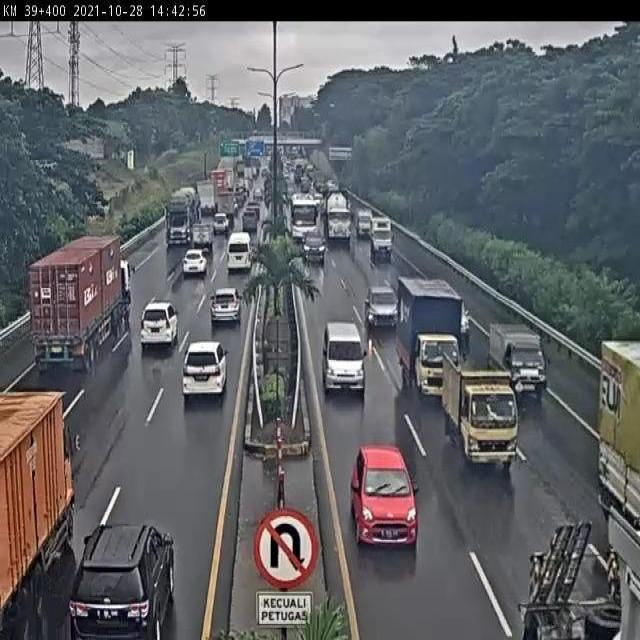big truck: (0, 390, 81, 634), (27, 236, 136, 373), (166, 187, 201, 245)
bus-s-: (324, 323, 368, 400)
car: (69, 522, 176, 640), (351, 442, 420, 554), (181, 341, 228, 399), (141, 301, 180, 351), (365, 287, 400, 333), (210, 288, 244, 329), (227, 232, 254, 272), (301, 229, 325, 268), (183, 249, 207, 280)
truck-m-: (442, 354, 526, 470), (397, 280, 468, 399)
truck-s-: (489, 320, 551, 400), (370, 216, 394, 257)
